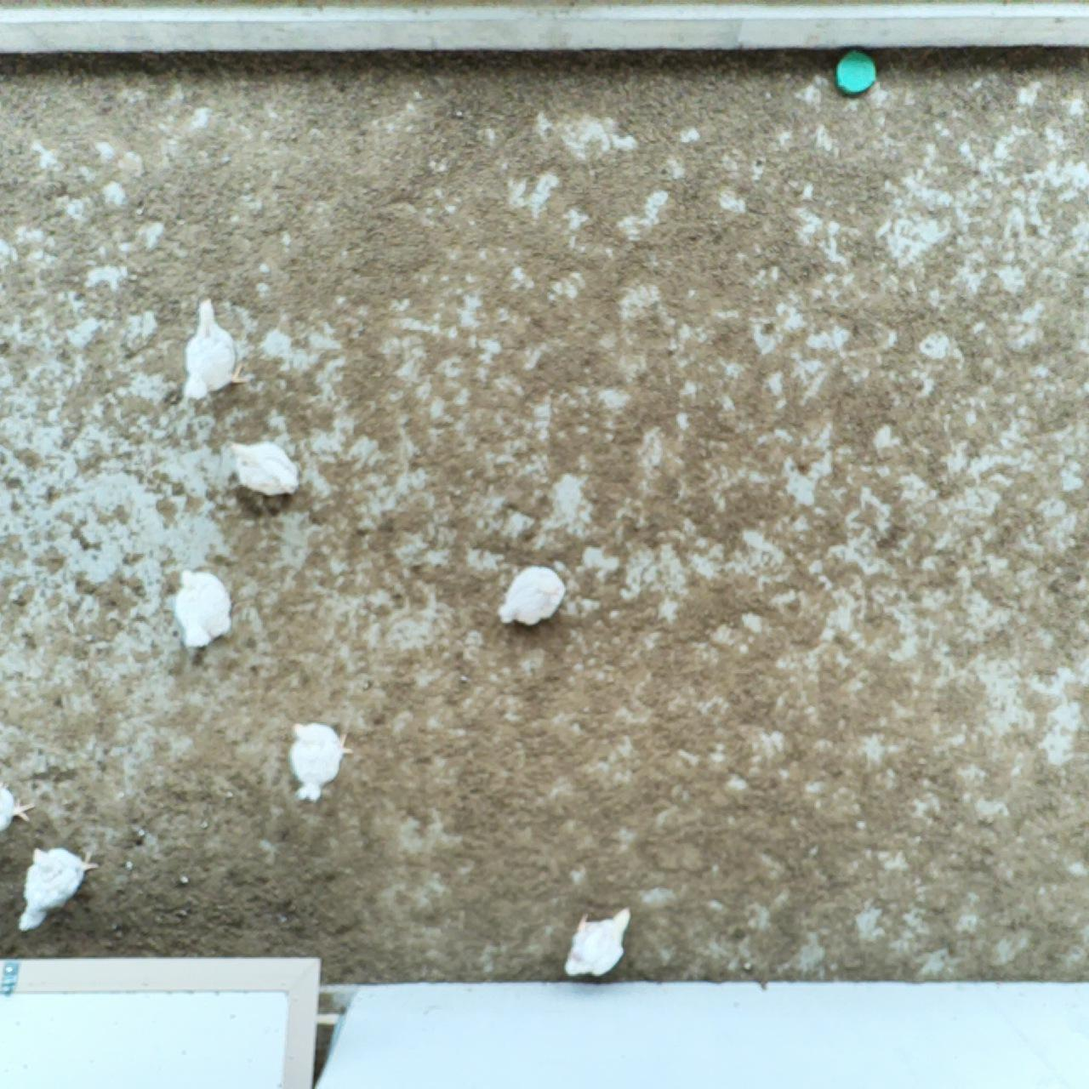chicken: (173, 296, 253, 403), (17, 837, 104, 935), (281, 713, 358, 802), (560, 898, 638, 984), (170, 560, 235, 655), (221, 429, 304, 499), (493, 558, 570, 630), (0, 778, 35, 833)
